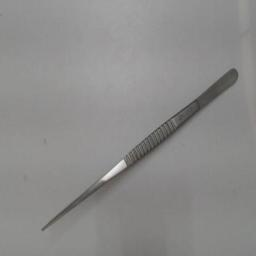DeBakey Dissector: (32, 61, 244, 241)
